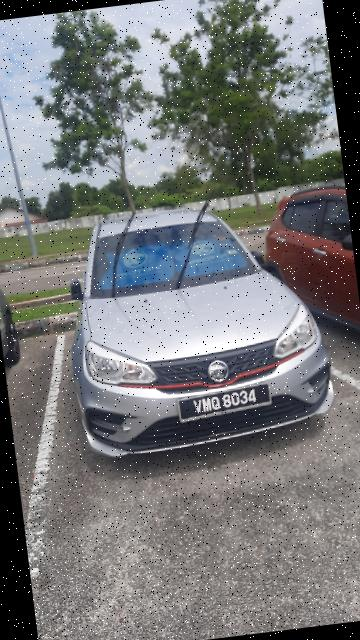License_Plate: (171, 380, 277, 423)
car: (45, 183, 351, 471)
